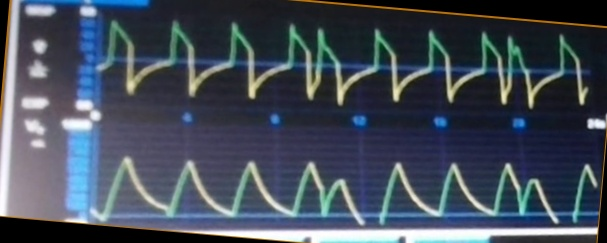Double_Triggering Flow: (103, 20, 592, 111)
Double_Triggering Volume: (96, 149, 598, 224)
